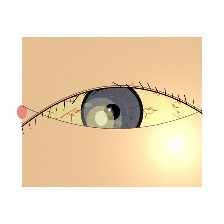corneal_ulcer: (76, 101, 124, 140)
